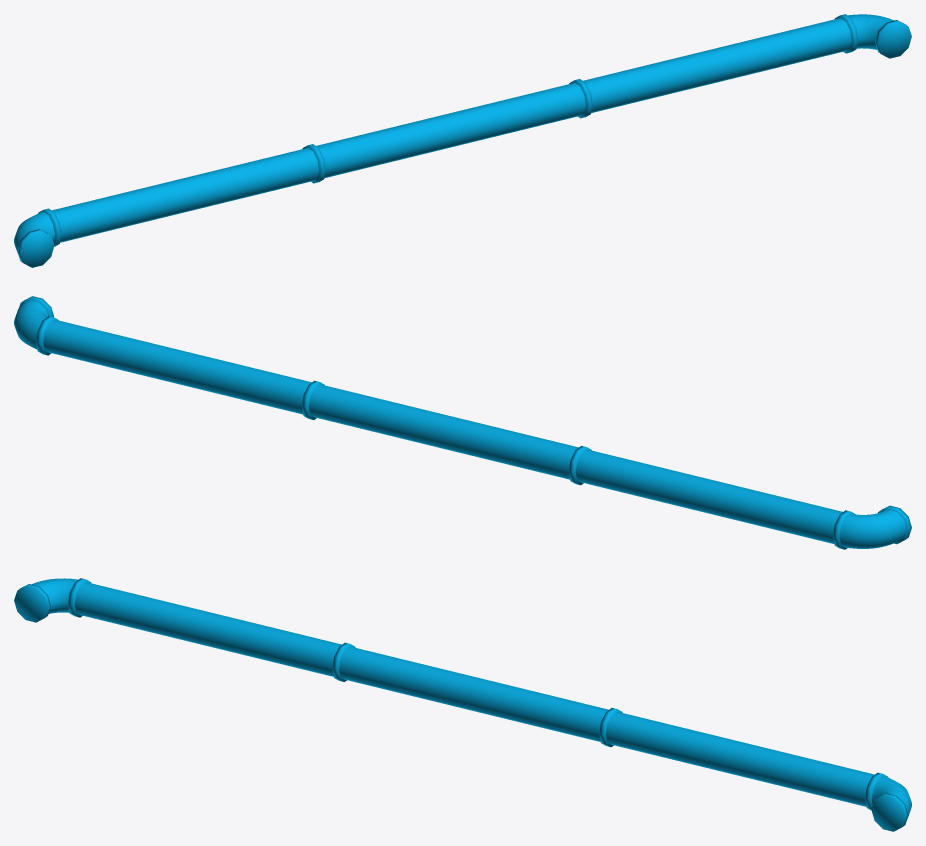
The model's file is Factory_Pipe_04_Lod0.fbx.
The picture shows the model from 3 angles, top to bottom: view 1: azimuth 30°, elevation 25°; view 2: azimuth 150°, elevation 25°; view 3: azimuth 330°, elevation 25°; orthographic projection.
Visible parts, largest first — view 1: Factory_Pipe_04_Lod0; view 2: Factory_Pipe_04_Lod0; view 3: Factory_Pipe_04_Lod0.
Part boxes in pixels (x1,y1,x2,y2): Factory_Pipe_04_Lod0: (14, 14, 911, 267); Factory_Pipe_04_Lod0: (14, 296, 911, 549); Factory_Pipe_04_Lod0: (14, 578, 911, 831).
Bounding box in the file's own units: 1059 × 38.53 × 60.21.
